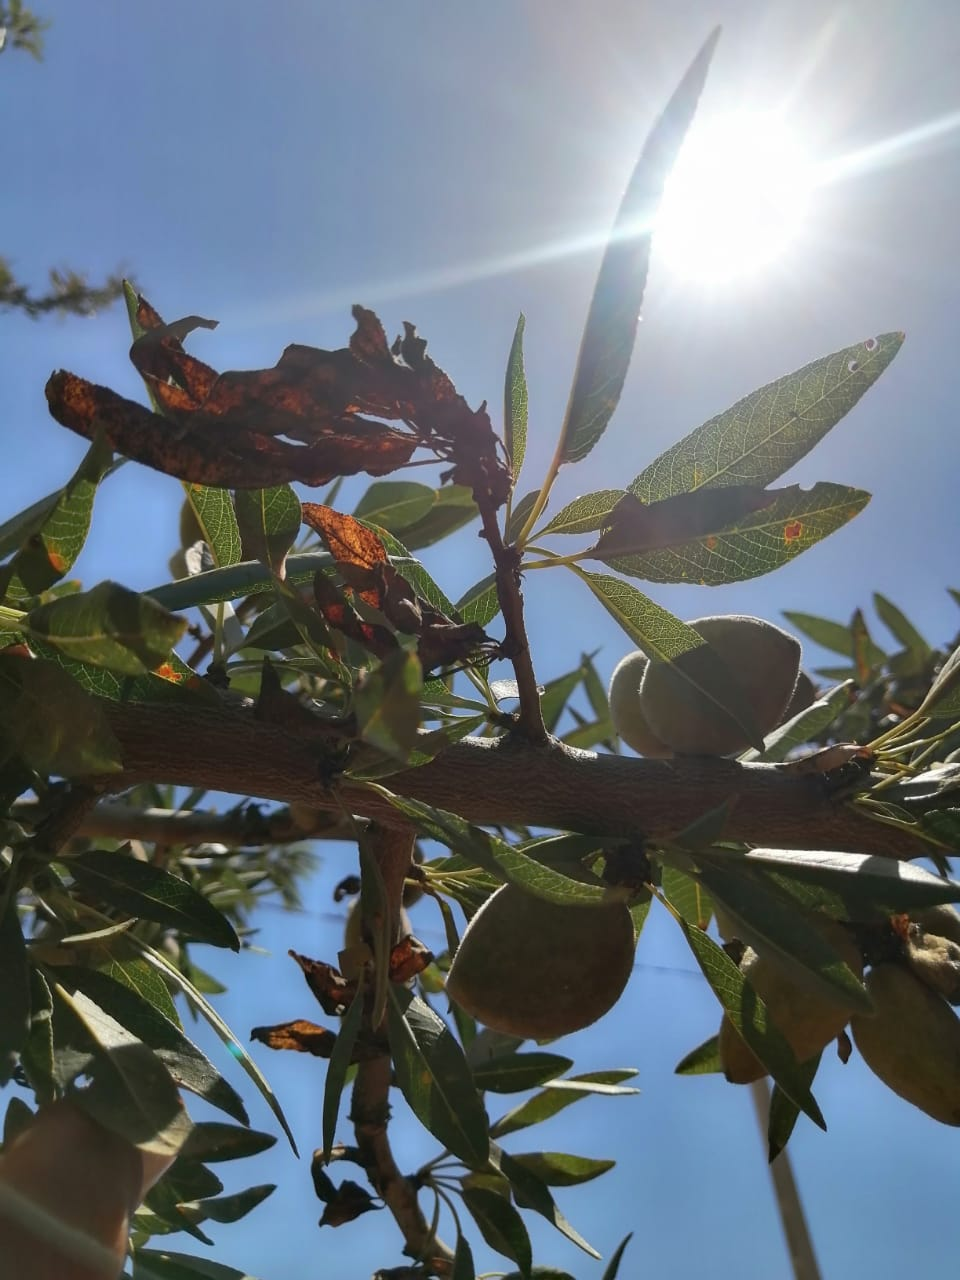scolytes: (41, 300, 518, 521)
